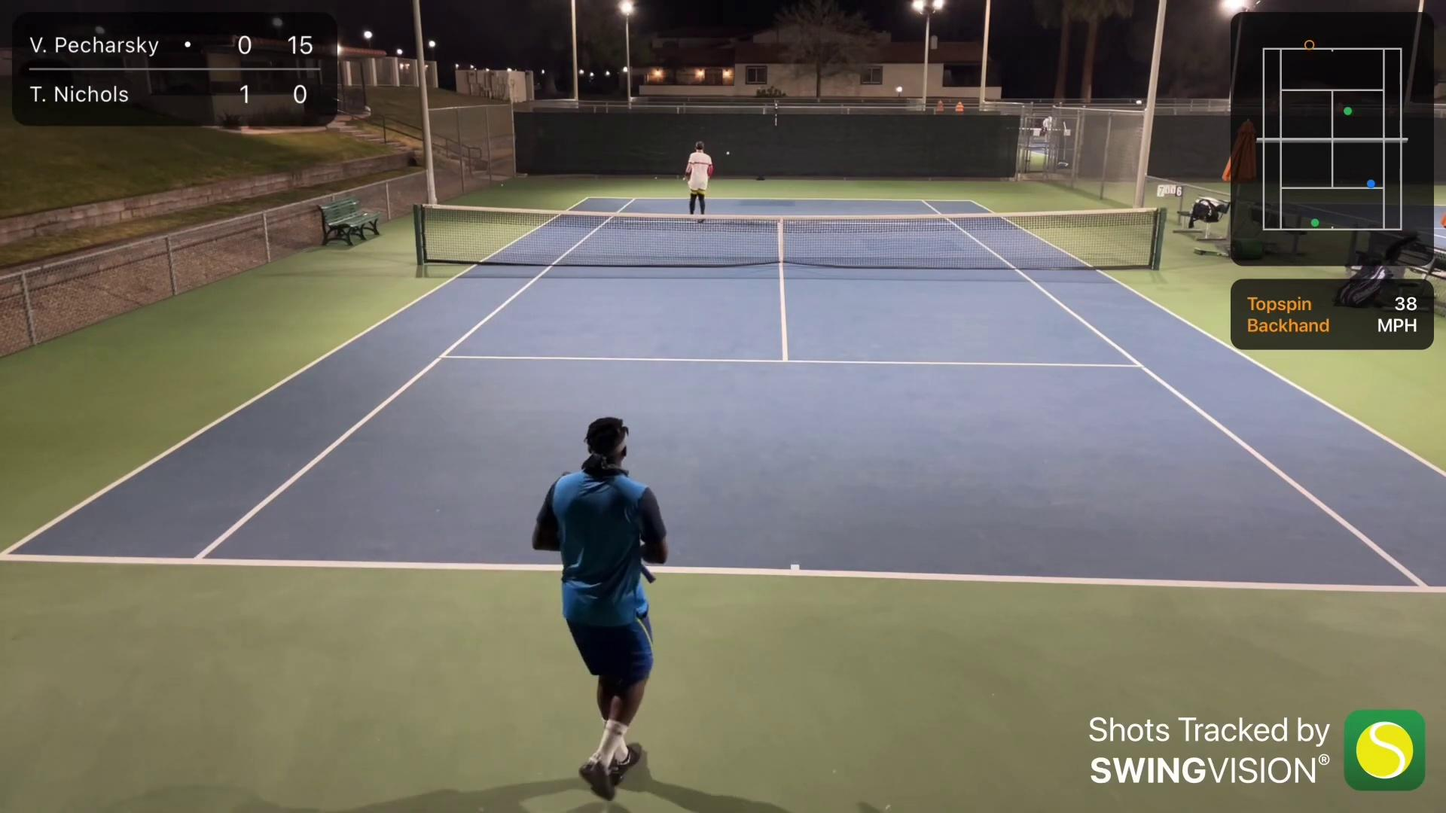ball: (722, 149, 732, 157), (652, 175, 660, 180), (499, 182, 506, 187)
